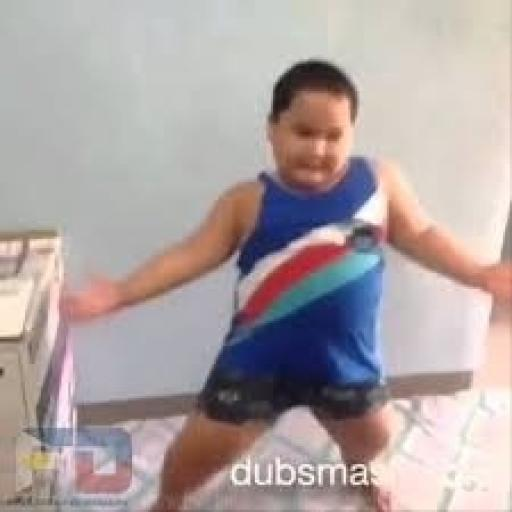dancing: (57, 57, 510, 510)
